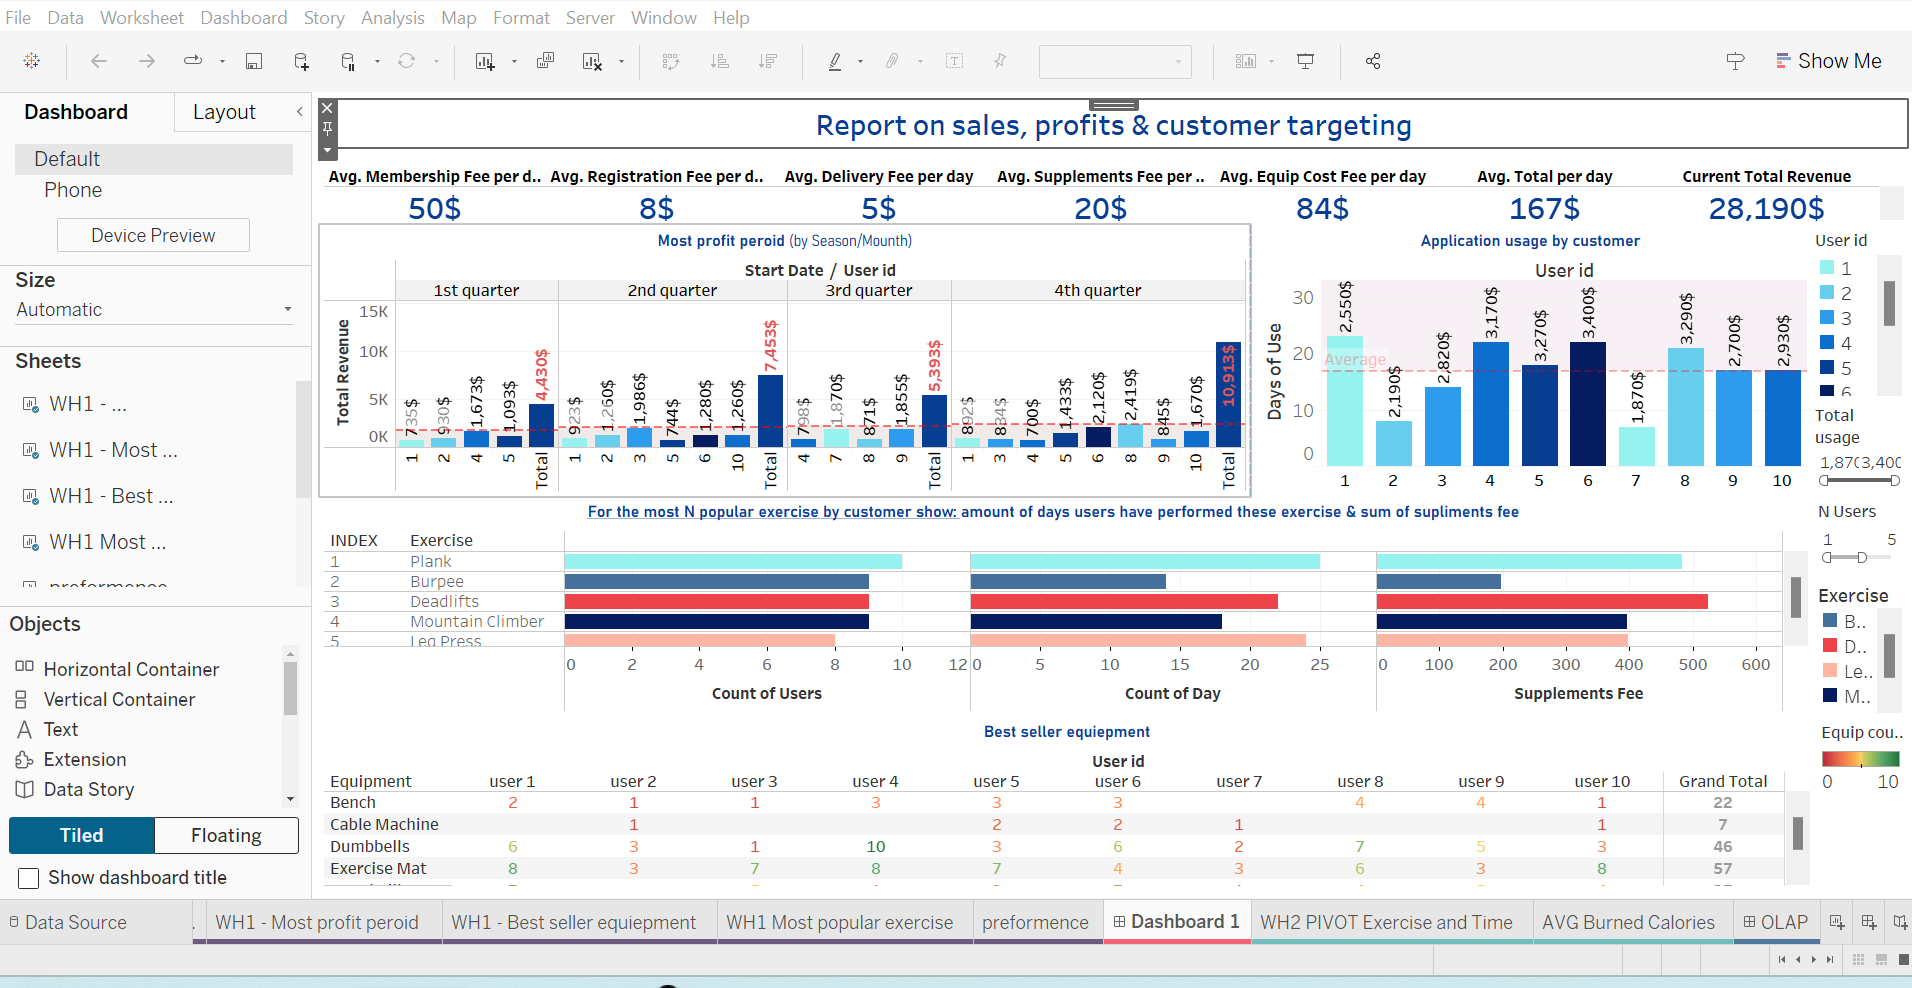

Layout of this report page (visuals, bound fields, positions):
{"tool":"tableau","page":{"name":"Dashboard 1","canvas":[1000,1000],"units":"permille","ordinal":0},"visuals":[{"type":"title","box":[5,9.9,990,58.3]},{"type":"worksheet","title":"preformence","mark":"Automatic","box":[5,68.2,990,96.6]},{"type":"worksheet","title":"WH1 - Most profit peroid ","mark":"Automatic","rows":["Total"],"cols":["StartDate","User_id"],"box":[5,164.8,579.5,336.4]},{"type":"worksheet","title":"WH1 - Application usage by customer","mark":"Automatic","rows":["Day"],"cols":["User_id"],"box":[584.5,164.8,350,336.4]},{"type":"legend","title":"WH1 - Most profit peroid ","param":"[federated.1btivby0nk1dqk13pdo3u1pa8jys].[none:User_id:ok]","box":[934.5,164.8,60.5,217.3]},{"type":"filter","title":"WH1 - Application usage by customer","param":"[federated.1btivby0nk1dqk13pdo3u1pa8jys].[sum:Total:qk]","box":[934.5,382.1,60.5,119.1]},{"type":"worksheet","title":"WH1 Most popular exercise","mark":"Automatic","rows":["Exercise"],"cols":["User_id","Day","SupplementsFee"],"box":[5,501.2,931.7,273.5]},{"type":"filter","title":"WH1 Most popular exercise","param":"[federated.1btivby0nk1dqk13pdo3u1pa8jys].[usr:Calculation_1590333679884300288:qk","box":[936.7,501.2,58.3,101.9]},{"type":"legend","title":"WH1 Most popular exercise","param":"[federated.1btivby0nk1dqk13pdo3u1pa8jys].[none:Exercise:nk]","box":[936.7,603.1,58.3,171.9]},{"type":"worksheet","title":"WH1 - Best seller equiepment","mark":"Automatic","rows":["Equipment"],"cols":["User_id"],"box":[5,774.7,931.7,215.4]},{"type":"legend","title":"WH1 - Best seller equiepment","param":"[federated.1btivby0nk1dqk13pdo3u1pa8jys].[cnt:EquipmentCostFee:qk]","box":[936.7,774.9,58.3,215.2]}]}

Visuals, with their boxes on the dashboard's canvas, which has no fixed pixel size, in thousandths of its width and height (x1, y1, x2, y2). These are canvas units, not pixel positions in the 1912x988 screenshot, which may show the page scaled, cropped or inside an application window:
title: bbox(5, 10, 995, 68)
"preformence" worksheet: bbox(5, 68, 995, 165)
"WH1 - Most profit peroid " worksheet: bbox(5, 165, 584, 501)
"WH1 - Application usage by customer" worksheet: bbox(584, 165, 934, 501)
"WH1 - Most profit peroid " legend: bbox(934, 165, 995, 382)
"WH1 - Application usage by customer" filter: bbox(934, 382, 995, 501)
"WH1 Most popular exercise" worksheet: bbox(5, 501, 937, 775)
"WH1 Most popular exercise" filter: bbox(937, 501, 995, 603)
"WH1 Most popular exercise" legend: bbox(937, 603, 995, 775)
"WH1 - Best seller equiepment" worksheet: bbox(5, 775, 937, 990)
"WH1 - Best seller equiepment" legend: bbox(937, 775, 995, 990)
